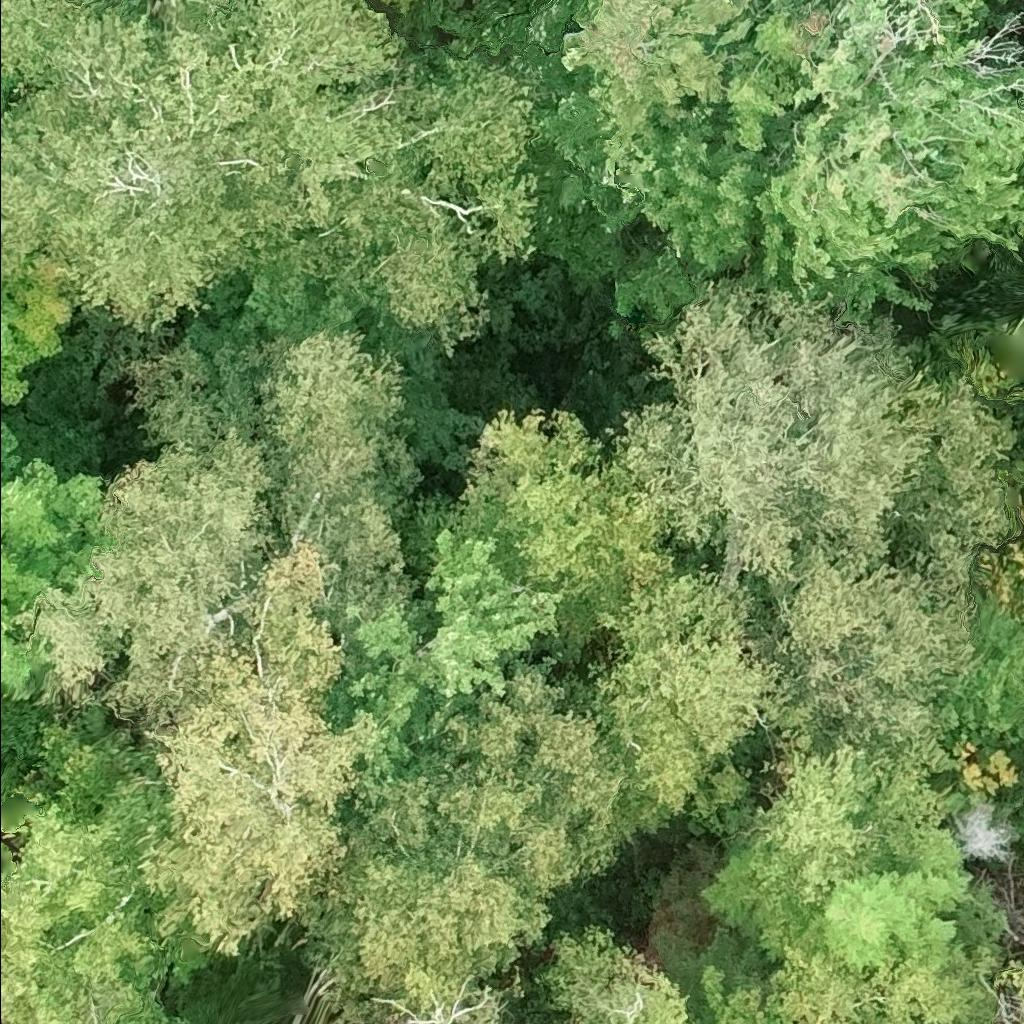crown: (602, 276, 941, 588), (248, 0, 543, 356), (0, 0, 302, 334), (724, 0, 1023, 337), (15, 422, 276, 725), (138, 631, 370, 955), (303, 761, 555, 1007), (588, 564, 800, 830), (769, 523, 981, 758), (432, 656, 634, 891), (459, 404, 676, 621), (251, 323, 424, 589), (559, 0, 760, 202), (0, 455, 113, 704), (888, 371, 1019, 547), (244, 531, 346, 696), (0, 253, 73, 407), (0, 414, 24, 477), (0, 74, 17, 104)
